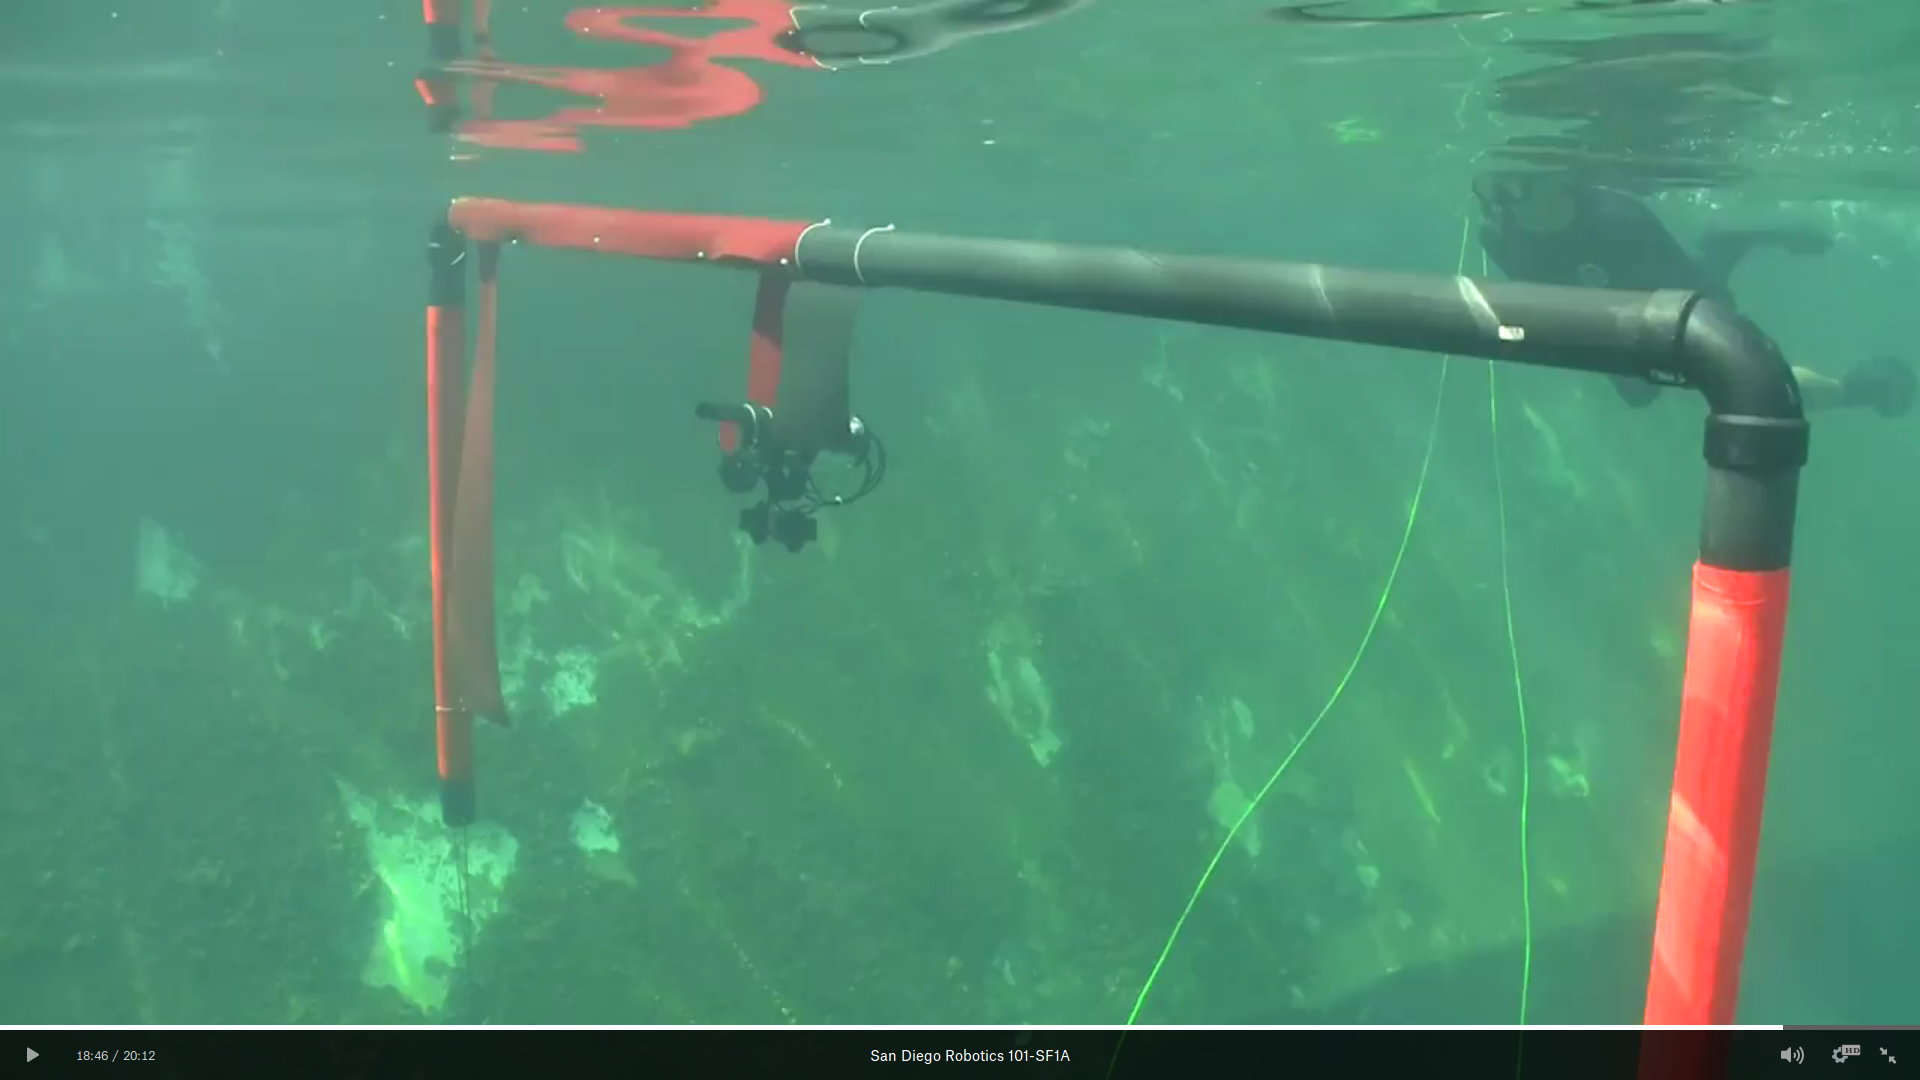gate: (383, 183, 1811, 1009)
